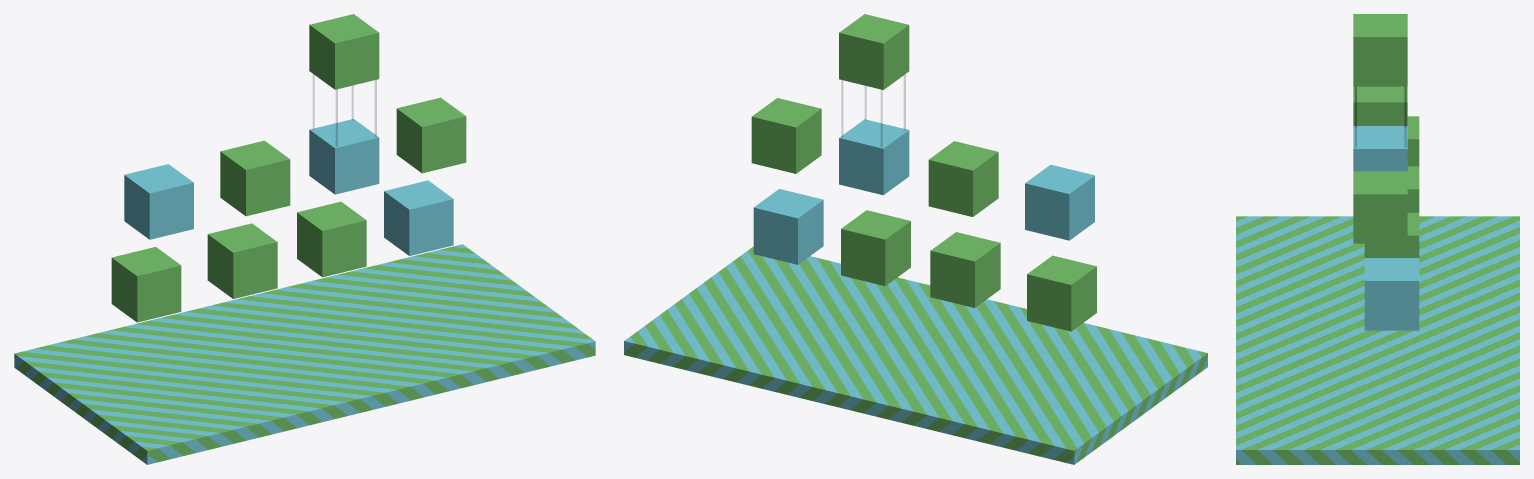
The model's file is Filtering.glb.
3 views of the same model, side by side, from view 1: azimuth 30°, elevation 25°; view 2: azimuth 150°, elevation 25°; view 3: azimuth 270°, elevation 25° (orthographic). The views are drawn at different scales.
Visible parts, largest first — view 1: Ground, DynamicGreen, DynamicChildBlue, DynamicChildGreen, DynamicGreen.001, StaticGreen.001, StaticGreen, StaticGreen.002, DynamicBlue, StaticCube.003; view 2: Ground, StaticGreen.001, DynamicChildBlue, DynamicChildGreen, StaticCube.003, DynamicGreen, DynamicGreen.001, DynamicBlue, StaticGreen, StaticGreen.002; view 3: Ground, StaticCube.003, DynamicChildGreen, DynamicGreen.001, DynamicChildBlue, DynamicGreen, StaticGreen.002, StaticGreen, StaticGreen.001.
Boxes of the visible parts, x1=… form: Ground: x1=14, y1=244, x2=595, y2=464; DynamicGreen: x1=220, y1=140, x2=290, y2=216; DynamicChildBlue: x1=309, y1=119, x2=379, y2=194; DynamicChildGreen: x1=309, y1=14, x2=379, y2=89; DynamicGreen.001: x1=396, y1=97, x2=466, y2=173; StaticGreen.001: x1=207, y1=223, x2=277, y2=298; StaticGreen: x1=111, y1=247, x2=181, y2=322; StaticGreen.002: x1=297, y1=201, x2=366, y2=277; DynamicBlue: x1=124, y1=164, x2=193, y2=239; StaticCube.003: x1=384, y1=180, x2=453, y2=255; Ground: x1=624, y1=246, x2=1207, y2=464; StaticGreen.001: x1=930, y1=232, x2=1000, y2=307; DynamicChildBlue: x1=839, y1=119, x2=909, y2=195; DynamicChildGreen: x1=839, y1=14, x2=909, y2=89; StaticCube.003: x1=753, y1=189, x2=823, y2=264; DynamicGreen: x1=928, y1=141, x2=998, y2=216; DynamicGreen.001: x1=751, y1=98, x2=821, y2=173; DynamicBlue: x1=1025, y1=164, x2=1094, y2=240; StaticGreen: x1=1027, y1=255, x2=1096, y2=331; StaticGreen.002: x1=841, y1=210, x2=910, y2=286; Ground: x1=1236, y1=216, x2=1519, y2=464; StaticCube.003: x1=1364, y1=258, x2=1419, y2=330; DynamicChildGreen: x1=1353, y1=14, x2=1407, y2=86; DynamicGreen.001: x1=1353, y1=171, x2=1407, y2=243; DynamicChildBlue: x1=1353, y1=126, x2=1407, y2=171; DynamicGreen: x1=1353, y1=86, x2=1407, y2=125; StaticGreen.002: x1=1364, y1=212, x2=1419, y2=257; StaticGreen: x1=1407, y1=116, x2=1419, y2=166; StaticGreen.001: x1=1407, y1=166, x2=1419, y2=212.
Size of the model in its own units: 10.13 by 6.95 by 5.2.
Materials: 4 (1 with a texture image).
